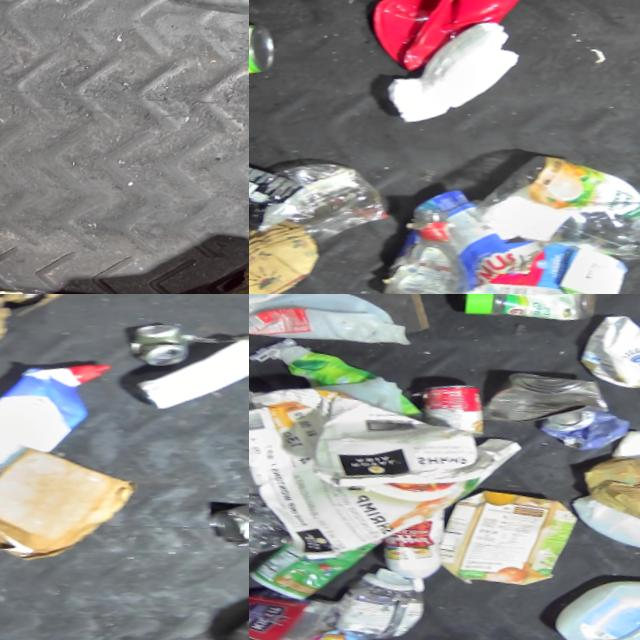can: (131, 333, 249, 440), (483, 365, 616, 448), (535, 407, 633, 471), (411, 381, 491, 451), (126, 328, 193, 385), (249, 10, 282, 100), (206, 508, 249, 570)
milk_jug: (249, 294, 419, 365), (562, 489, 640, 589), (552, 562, 640, 640), (575, 315, 640, 408)
non_white_jug: (434, 482, 582, 608), (0, 349, 112, 504), (362, 0, 536, 98), (470, 235, 631, 294), (382, 206, 481, 294)
plastic_bottle: (467, 142, 640, 293)
